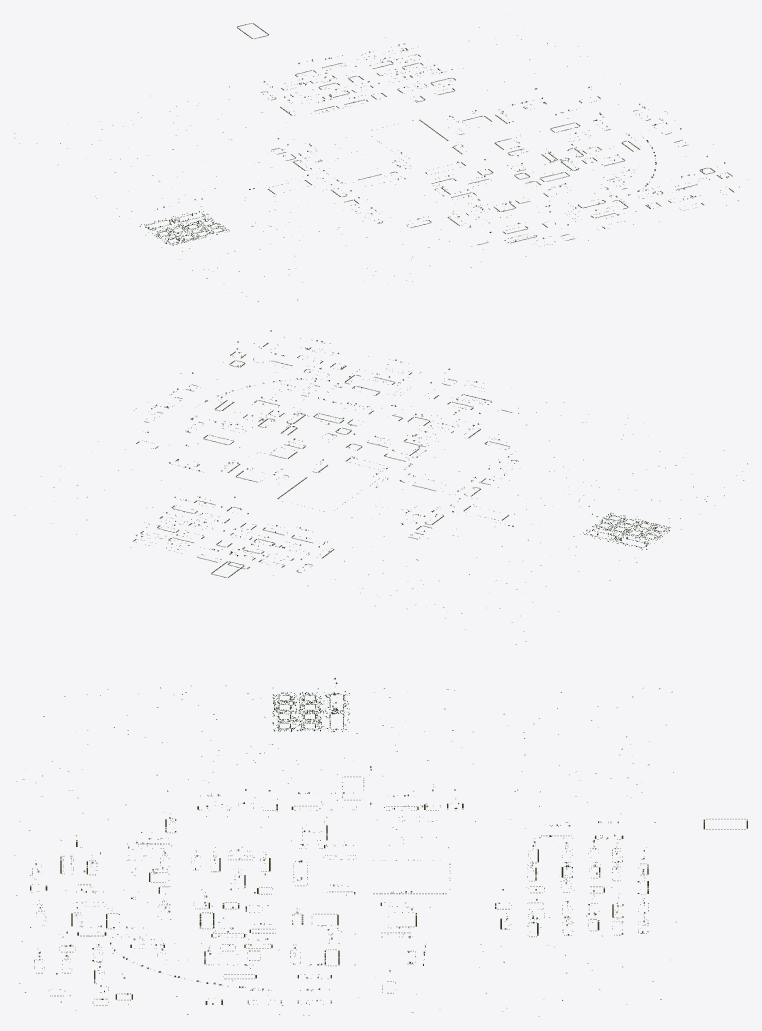
3 renders of one model, top to bottom at view 1: azimuth 30°, elevation 25°; view 2: azimuth 150°, elevation 25°; view 3: azimuth 270°, elevation 25°, orthographic. The views are drawn at different scales.
Size of the model in its own units: 1556 by 72.93 by 1465.
19 materials, 19 textured.
